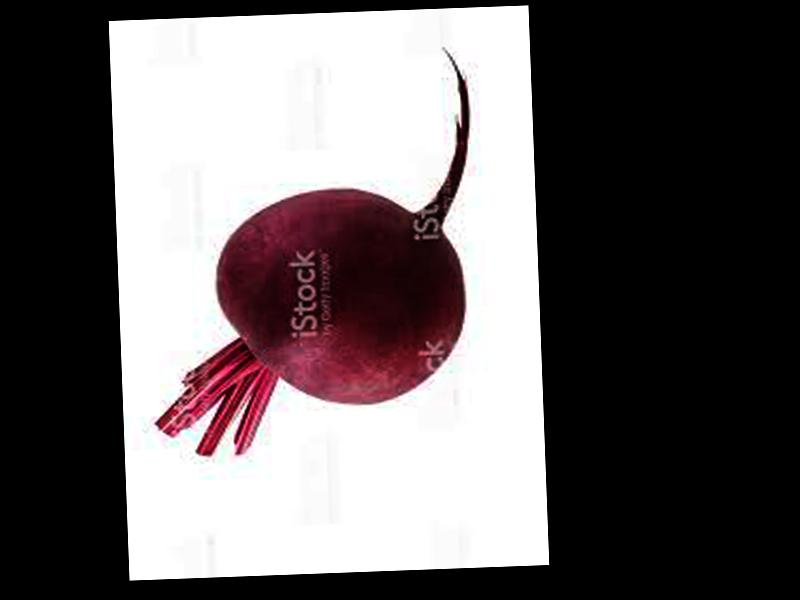Beet: (142, 48, 478, 459)
